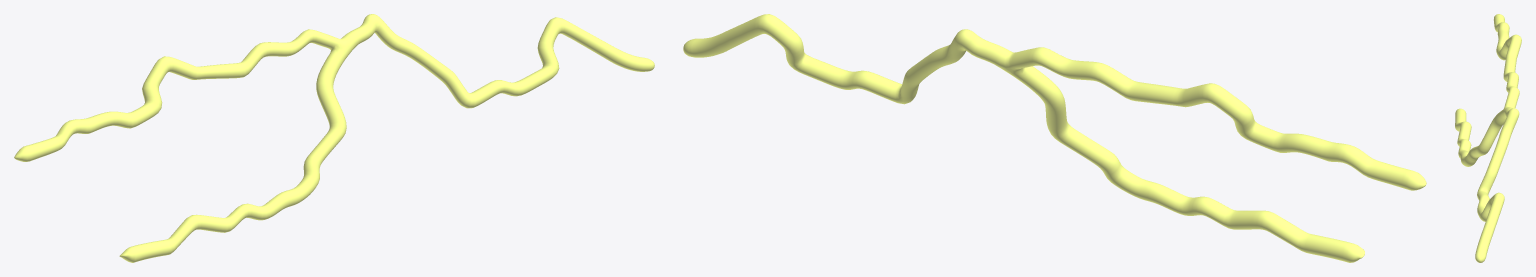
The model's file is Lightening-website.glb.
3 views of the same model, side by side, from view 1: azimuth 30°, elevation 25°; view 2: azimuth 150°, elevation 25°; view 3: azimuth 270°, elevation 25° (orthographic). The views are drawn at different scales.
Parts seen in each view (by area): view 1: Mesh0_n3d; view 2: Mesh0_n3d; view 3: Mesh0_n3d.
Boxes of the visible parts, x1,y1,x2,y2 form: Mesh0_n3d: (14, 14, 654, 262); Mesh0_n3d: (683, 14, 1426, 262); Mesh0_n3d: (1455, 14, 1521, 262).
Size of the model in its own units: 4.44 by 1.07 by 0.5953.
